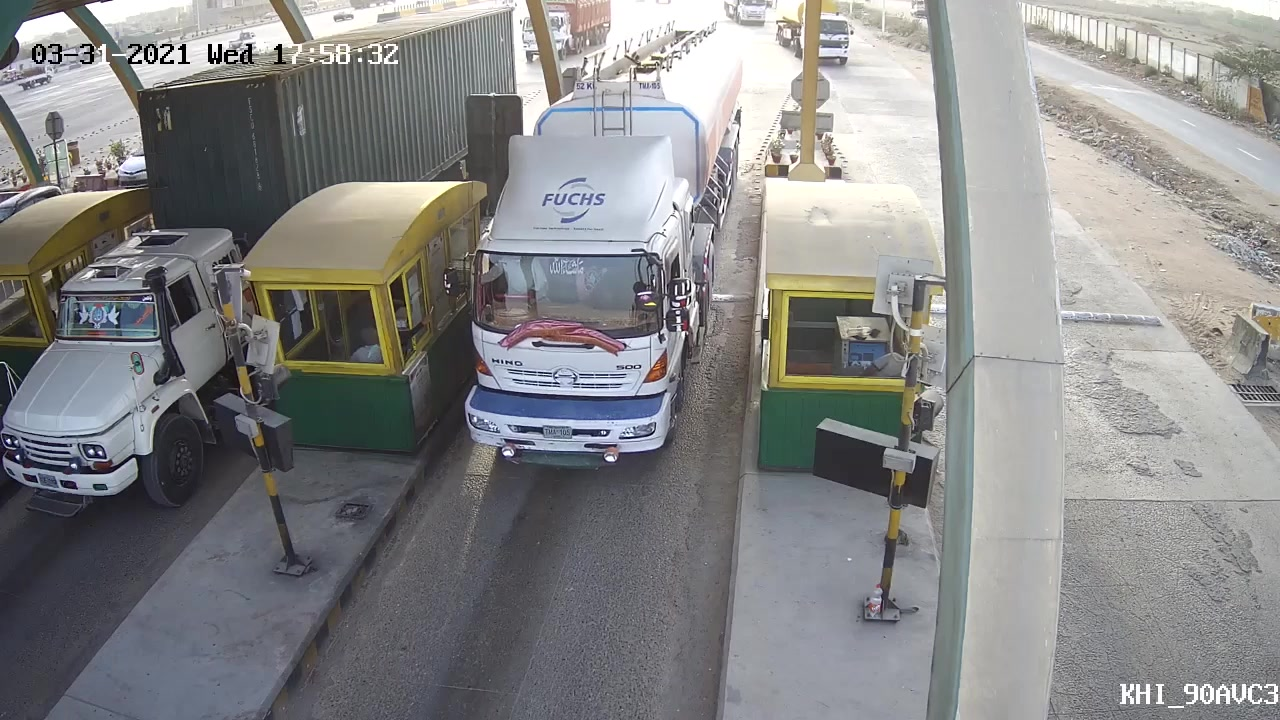F6: (438, 22, 756, 471)
